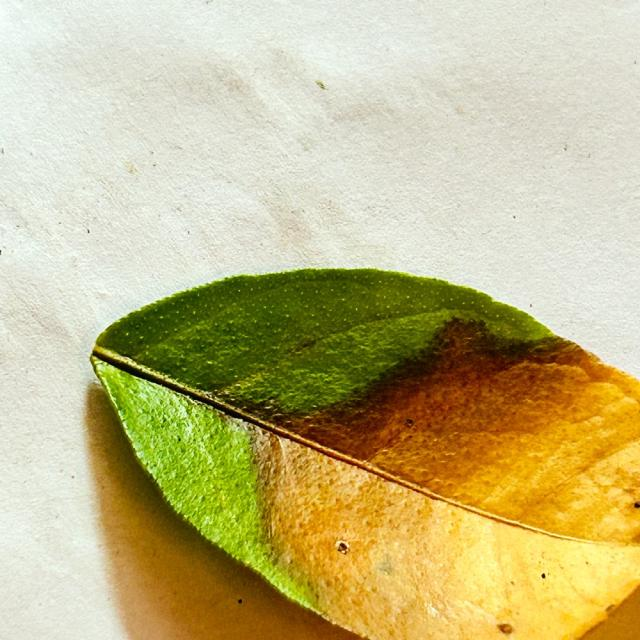DryLeaf_Lemon: (263, 321, 639, 639)
